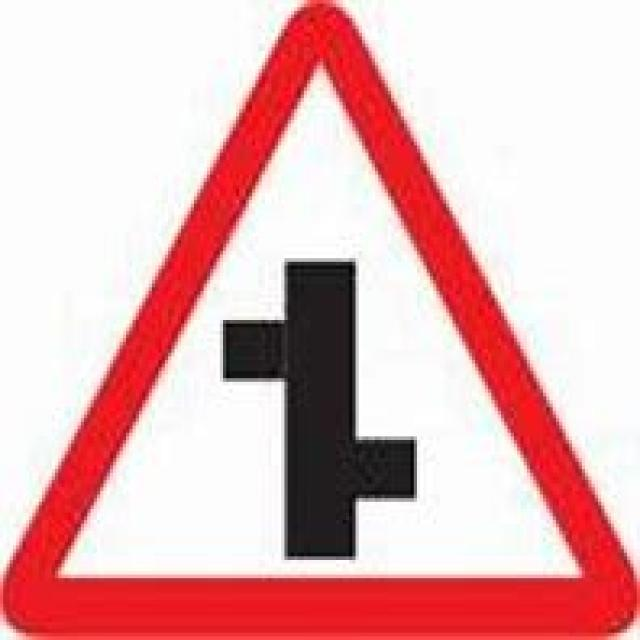staggered intersection: (19, 21, 625, 625)
